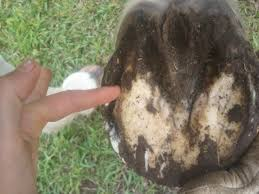horsesole: (108, 46, 259, 184)
